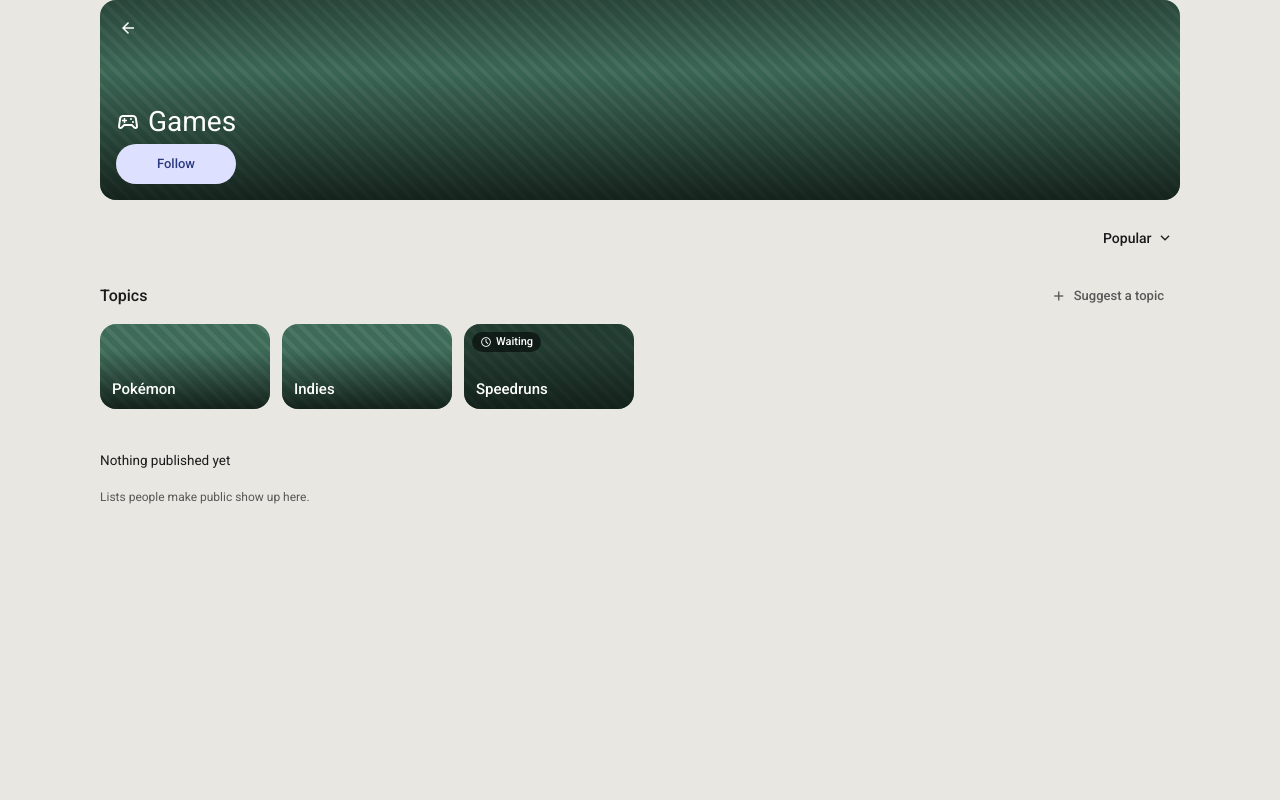
Scenario: SectionPage › opens what is known of a waiting topic in place, without a way to take it back
This screenshot has width=1280, height=800.
Expected: the link "Pokémon" is shown, [100,324,270,409]
Click the button with aria-label "Speedruns · waiting": (549, 366) [464,324,634,409]
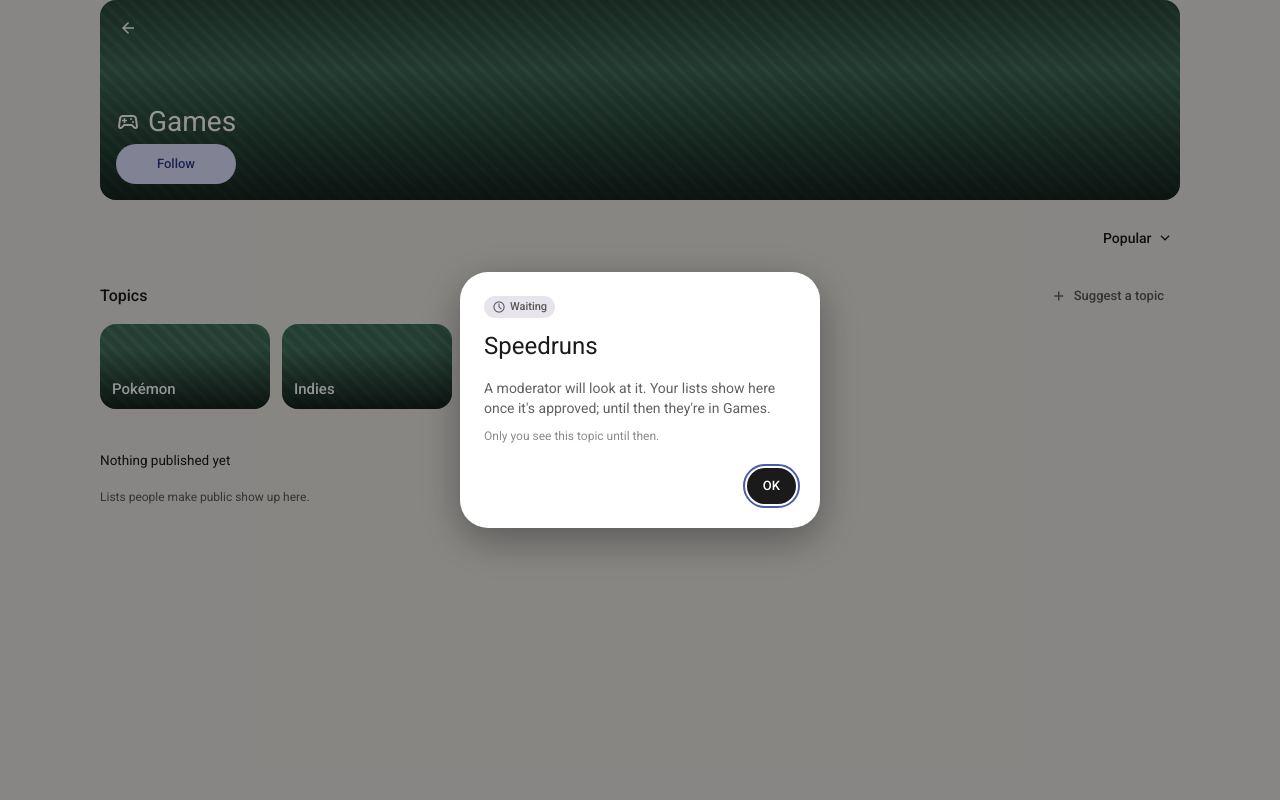
Now the dialog "Speedruns" shows "until then they're in Games", box [484,380,775,416]
Now the dialog "Speedruns" shows "Only you see this topic until then.", box [484,429,659,443]
Click the button "OK": (771, 486) [747,468,796,504]
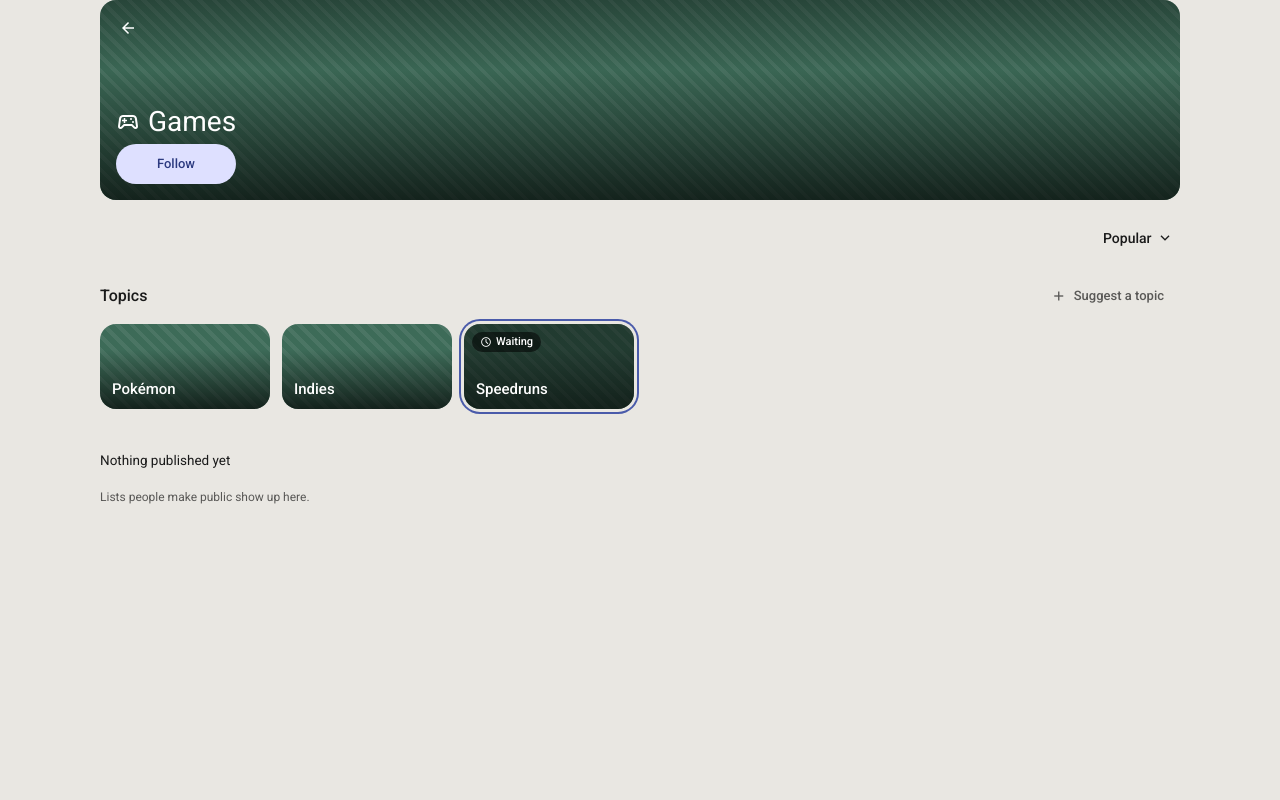
Now the dialog is gone
